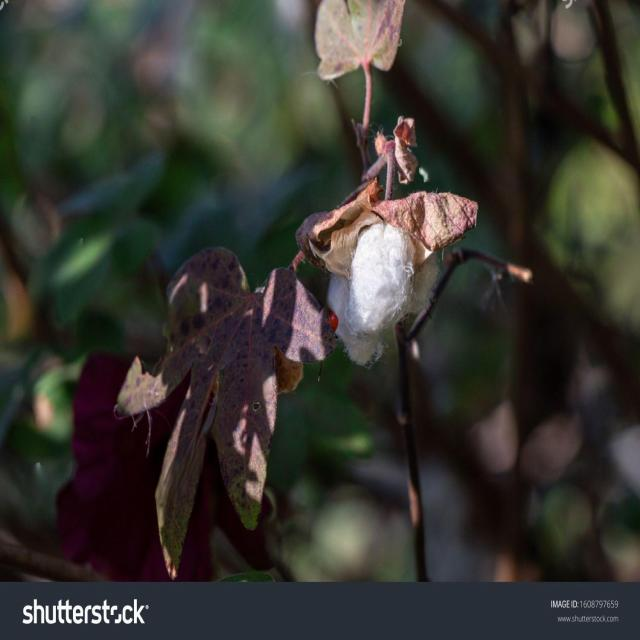Early_blight: (282, 176, 488, 387)
